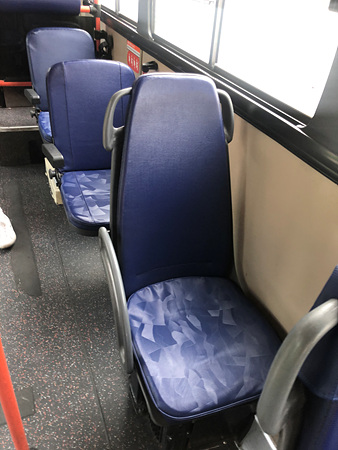seat: (115, 70, 266, 413)
